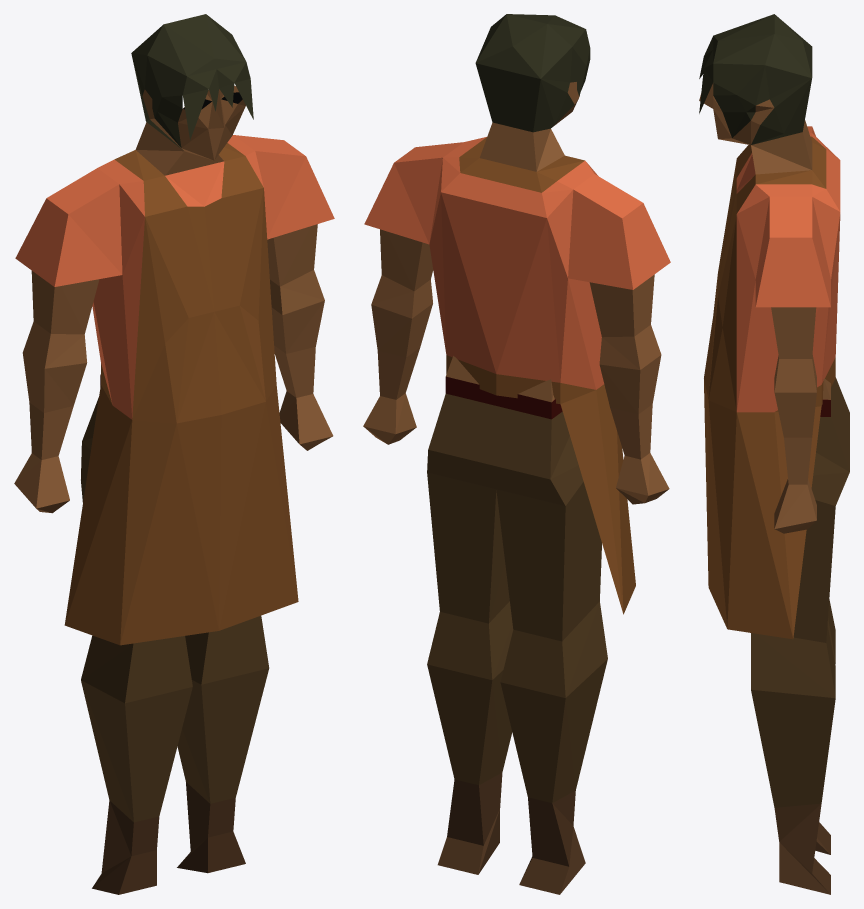
The model's file is tanners.gltf.
The picture shows the model from 3 angles, left to right: view 1: azimuth 30°, elevation 25°; view 2: azimuth 150°, elevation 25°; view 3: azimuth 270°, elevation 25°; orthographic projection. The views are drawn at different scales.
Size of the model in its own units: 70 by 197 by 32.
Materials: 1 (1 with a texture image).
